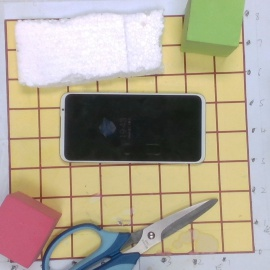phone: (59, 92, 209, 164)
